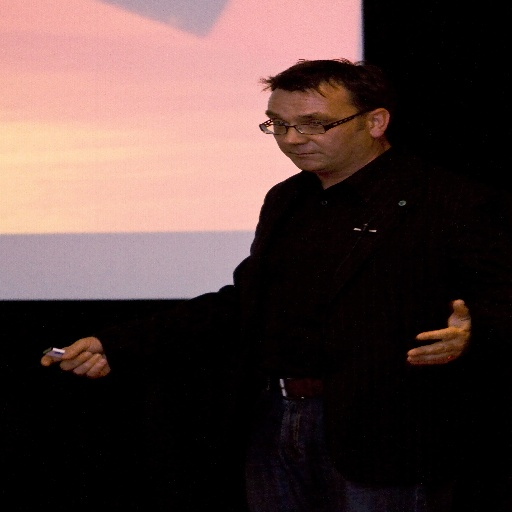hand: (406, 299, 473, 366), (37, 338, 113, 384)
